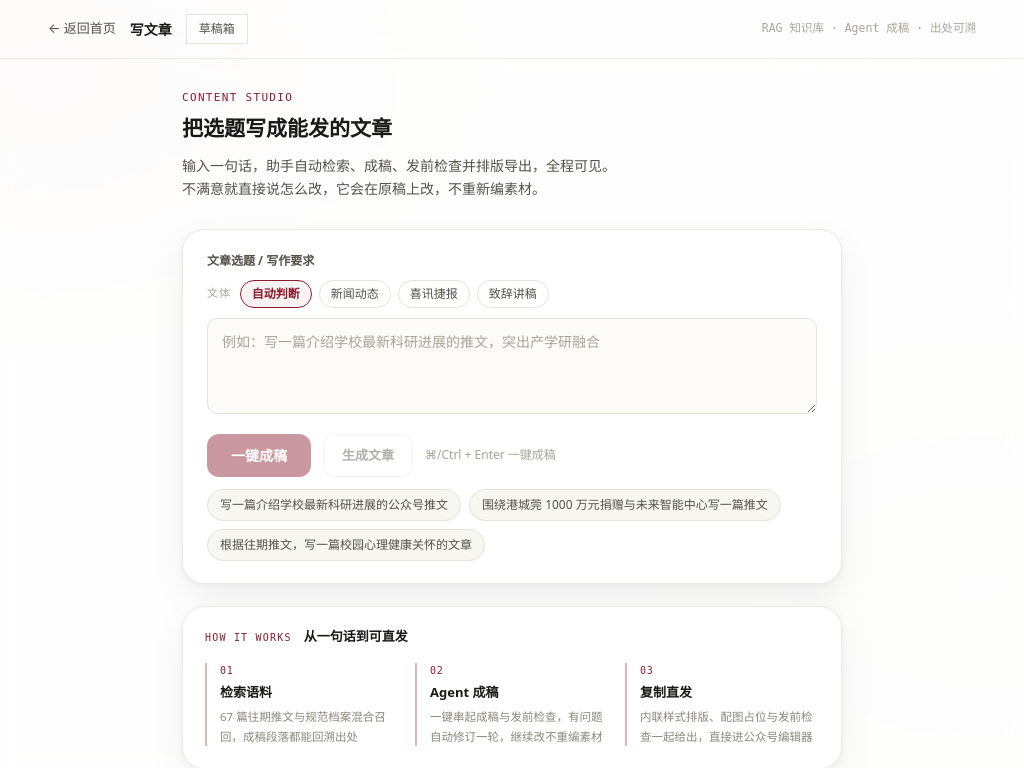
Test case: 写文章页 › 初始态用成稿链路填住左栏下方，展开右栏后自动收起
The width and height of the screenshot is (1024, 768).
Expected: the element named "成稿链路" is shown, [182,606,842,767]
Expected: the text "从一句话到可直发" is shown, [304,627,408,647]
Type "写一篇科研进展推文" into the text box named "文章选题输入框" at (512, 366), box [207,318,817,414]
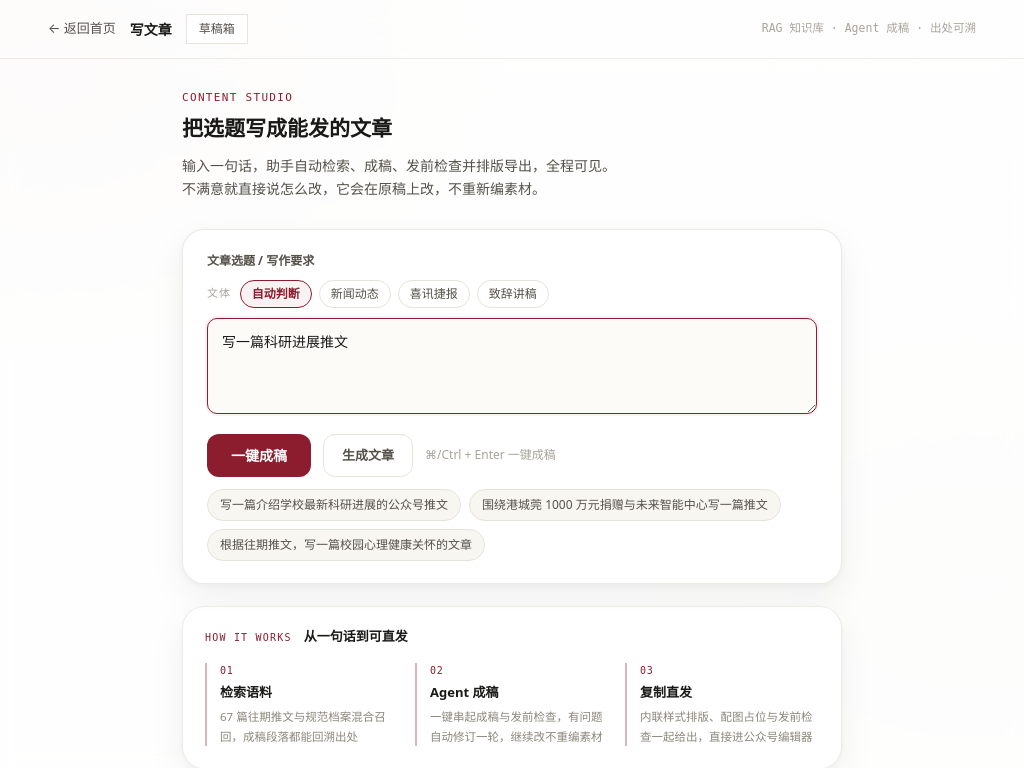
Click the button "生成文章" at (368, 455), box [323,434,413,477]
(page scrolled)
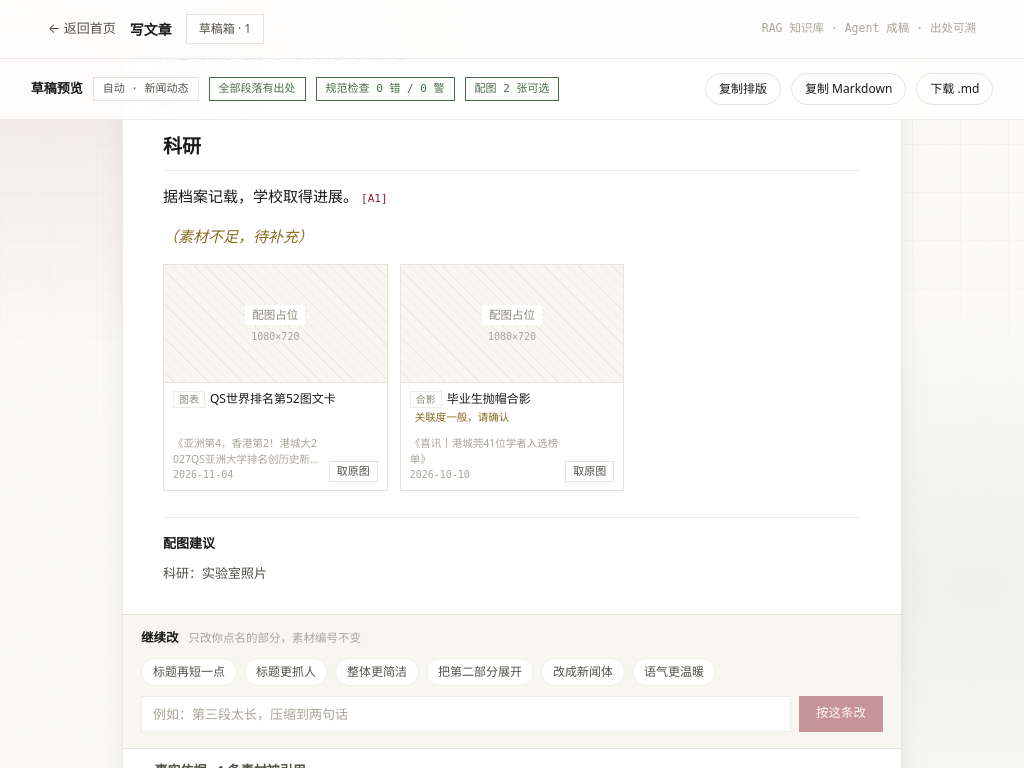
Expected: the element named "文章预览" is shown
